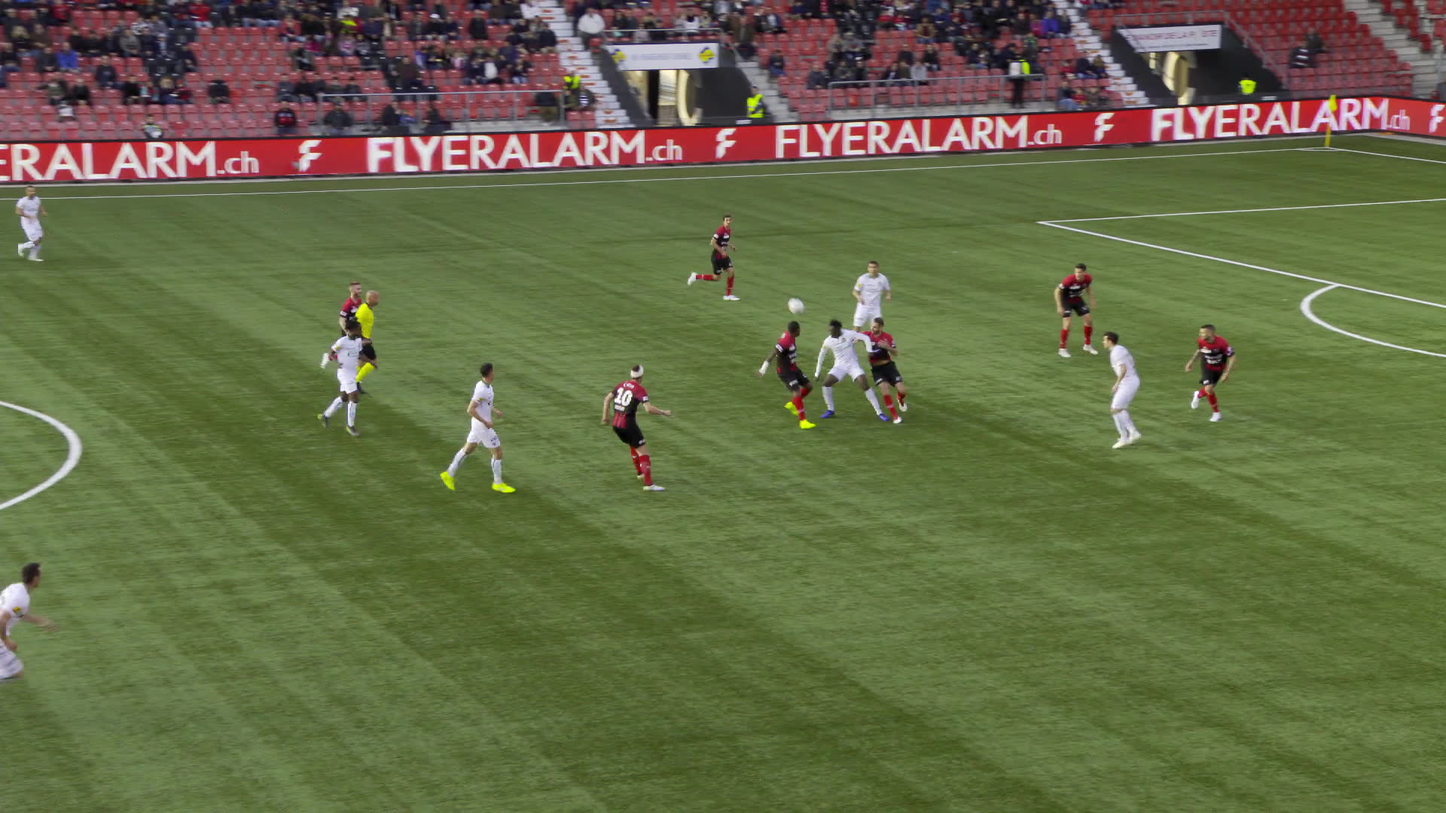ball: (787, 297, 804, 313)
player: (601, 364, 669, 491), (447, 366, 513, 494), (319, 320, 377, 437), (862, 315, 926, 419), (0, 561, 54, 684), (819, 321, 886, 419), (764, 319, 817, 426), (1184, 323, 1237, 421), (1057, 263, 1110, 358), (1101, 331, 1142, 449), (697, 213, 743, 301), (857, 260, 896, 361), (12, 184, 59, 263), (331, 280, 368, 359)
referee: (355, 290, 390, 394)
